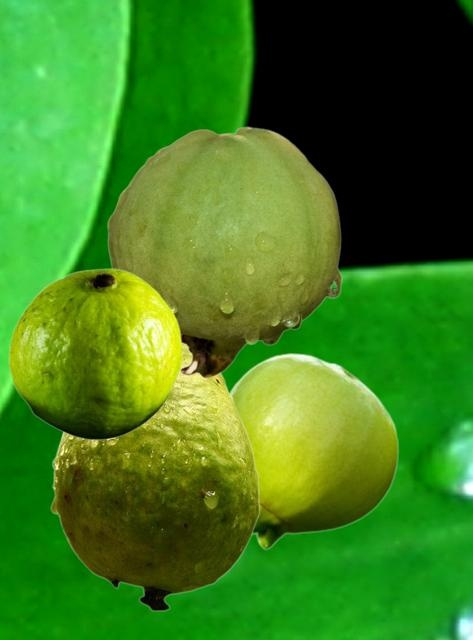guava: (107, 126, 341, 377), (50, 345, 259, 611), (230, 353, 398, 549), (8, 268, 181, 439)
